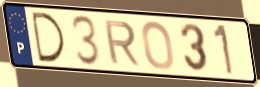1: (212, 24, 235, 77)
3: (71, 14, 101, 67), (179, 22, 209, 74)
D: (29, 10, 68, 64)
O: (140, 20, 176, 72)
R: (102, 19, 142, 68)
